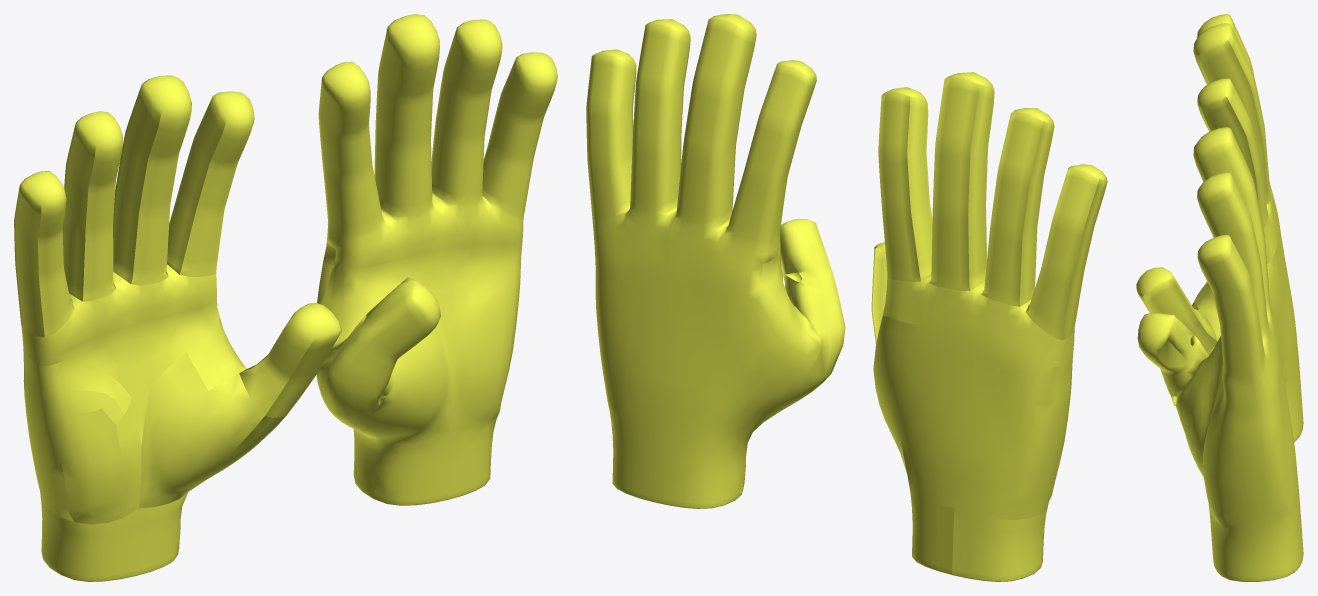
The picture shows the model from 3 angles, left to right: view 1: azimuth 30°, elevation 25°; view 2: azimuth 150°, elevation 25°; view 3: azimuth 270°, elevation 25°; orthographic projection. The views are drawn at different scales.
Visible parts, largest first — view 1: uploads_files_810024_Hand.001, uploads_files_810024_Hand; view 2: uploads_files_810024_Hand, uploads_files_810024_Hand.001; view 3: uploads_files_810024_Hand, uploads_files_810024_Hand.001.
Part boxes in pixels (bbox=[...]): uploads_files_810024_Hand.001: bbox=[14, 75, 341, 581]; uploads_files_810024_Hand: bbox=[316, 14, 557, 505]; uploads_files_810024_Hand: bbox=[586, 14, 845, 508]; uploads_files_810024_Hand.001: bbox=[871, 72, 1107, 581]; uploads_files_810024_Hand: bbox=[1137, 127, 1303, 581]; uploads_files_810024_Hand.001: bbox=[1136, 14, 1303, 441].
Size of the model in its own units: 3.25 by 2.84 by 1.03.
